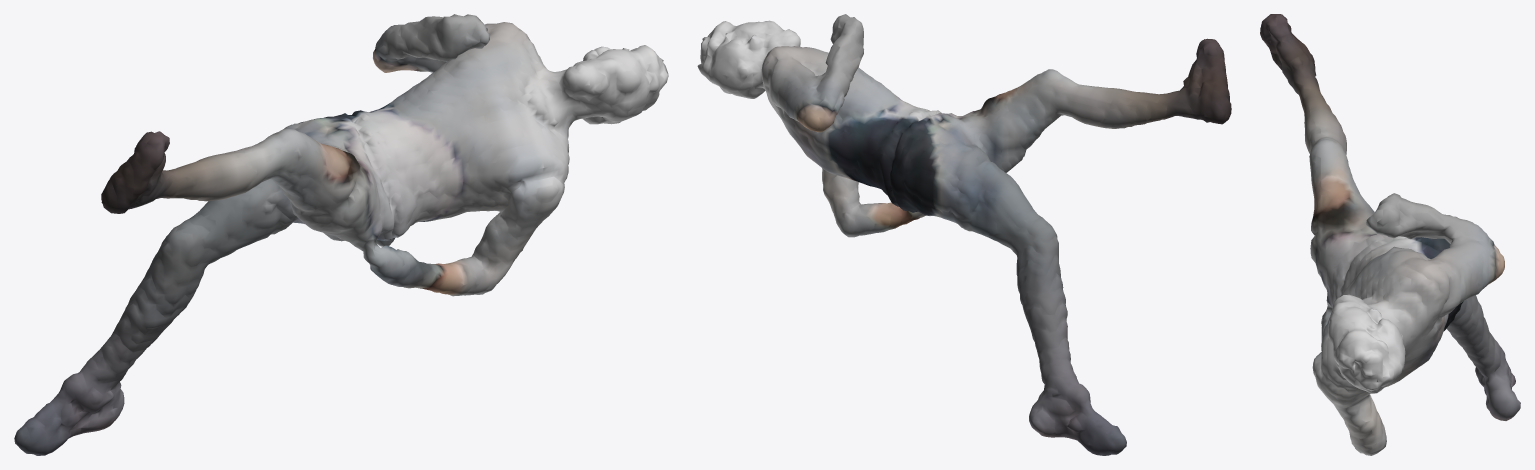
Rendered from triposr_beach.glb.
The picture shows the model from 3 angles, left to right: view 1: azimuth 30°, elevation 25°; view 2: azimuth 150°, elevation 25°; view 3: azimuth 270°, elevation 25°; orthographic projection. The views are drawn at different scales.
Parts seen in each view (by area): view 1: mesh.obj; view 2: mesh.obj; view 3: mesh.obj.
Boxes of the visible parts, x1,y1,x2,y2 form: mesh.obj: (14, 14, 668, 455); mesh.obj: (697, 14, 1231, 455); mesh.obj: (1260, 14, 1520, 455).
Size of the model in its own units: 0.9955 by 0.6559 by 0.4063.
